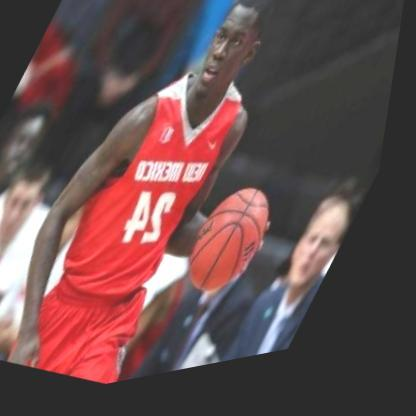basketball: (169, 174, 301, 327)
